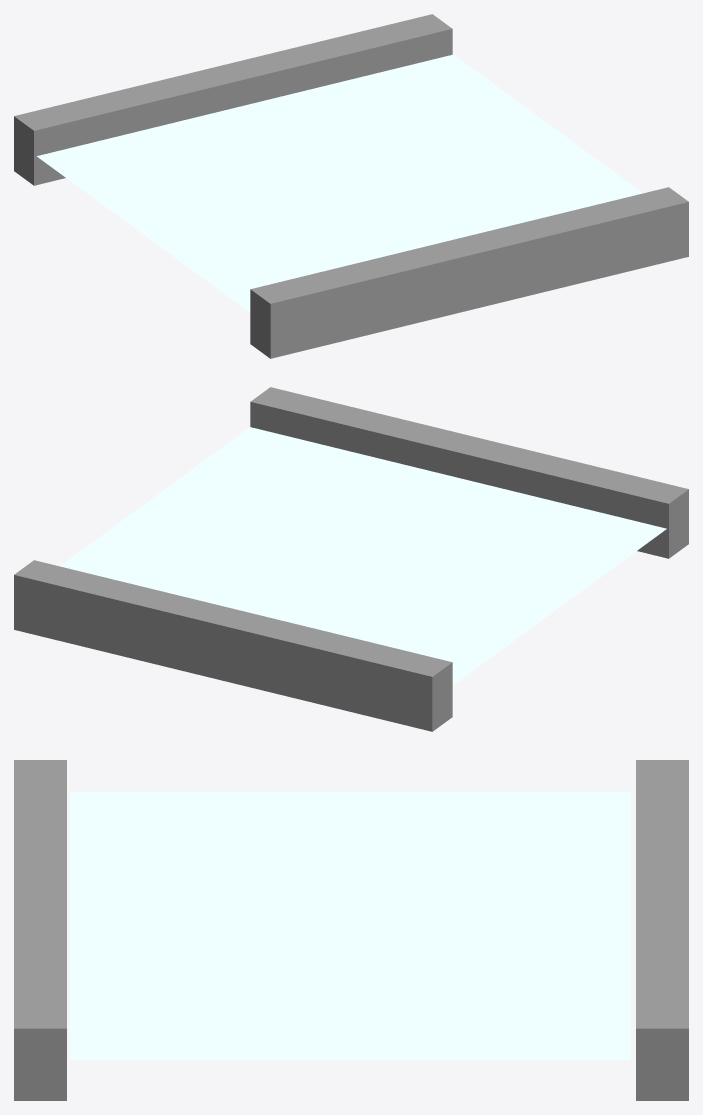
Rendered from ForceField2.fbx.
3 renders of one model, top to bottom at view 1: azimuth 30°, elevation 25°; view 2: azimuth 150°, elevation 25°; view 3: azimuth 270°, elevation 25°, orthographic. The views are drawn at different scales.
Visible parts, largest first — view 1: ForceField, Platform2, Platform1; view 2: ForceField, Platform1, Platform2; view 3: ForceField, Platform1, Platform2.
Part boxes in pixels (x1,y1,x2,y2): ForceField: (37, 54, 642, 312); Platform2: (250, 187, 688, 358); Platform1: (14, 14, 452, 185); ForceField: (60, 427, 666, 684); Platform1: (14, 560, 452, 731); Platform2: (250, 387, 688, 558); ForceField: (70, 792, 630, 1059); Platform1: (636, 760, 688, 1100); Platform2: (14, 760, 66, 1100).
Size of the model in its own units: 5.37 by 0.6733 by 5.7.
